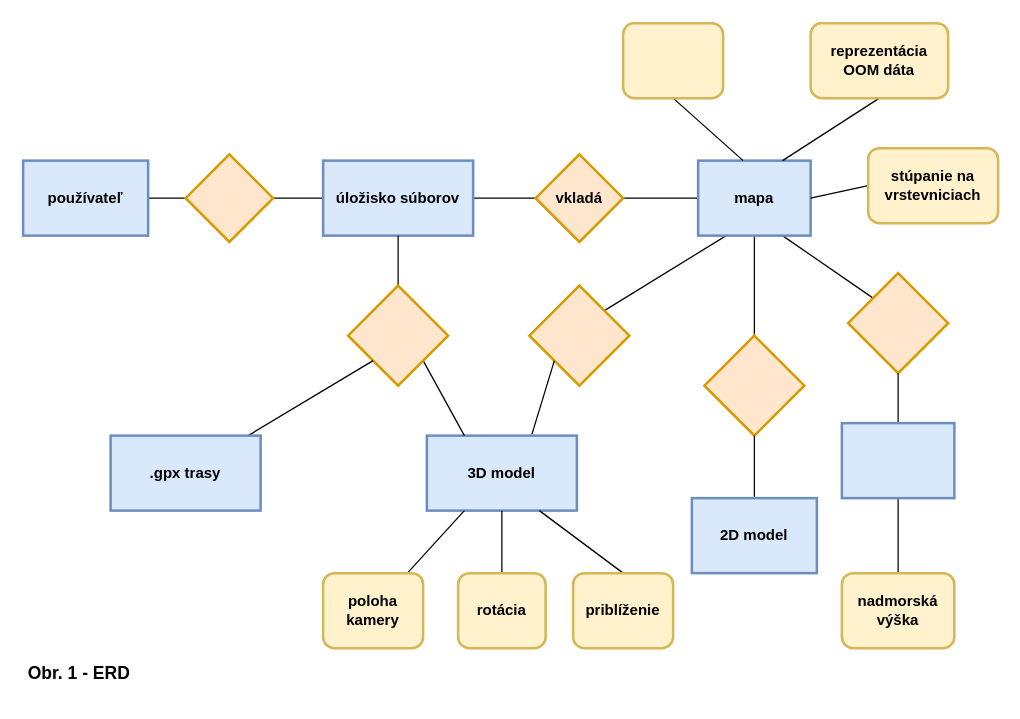
The diagram is 1020 pixels wide and 719 high, and some of its shapes have lost their labels. Each missing label, with the box of its shape:
mierka: (621, 21, 724, 99)
modeluje: (528, 284, 630, 386)
načítanie: (346, 284, 449, 386)
vrstevnica: (840, 421, 955, 499)
vyberá: (184, 152, 274, 242)
zobrazuje: (846, 271, 949, 374)
zobrazí: (702, 334, 805, 436)
